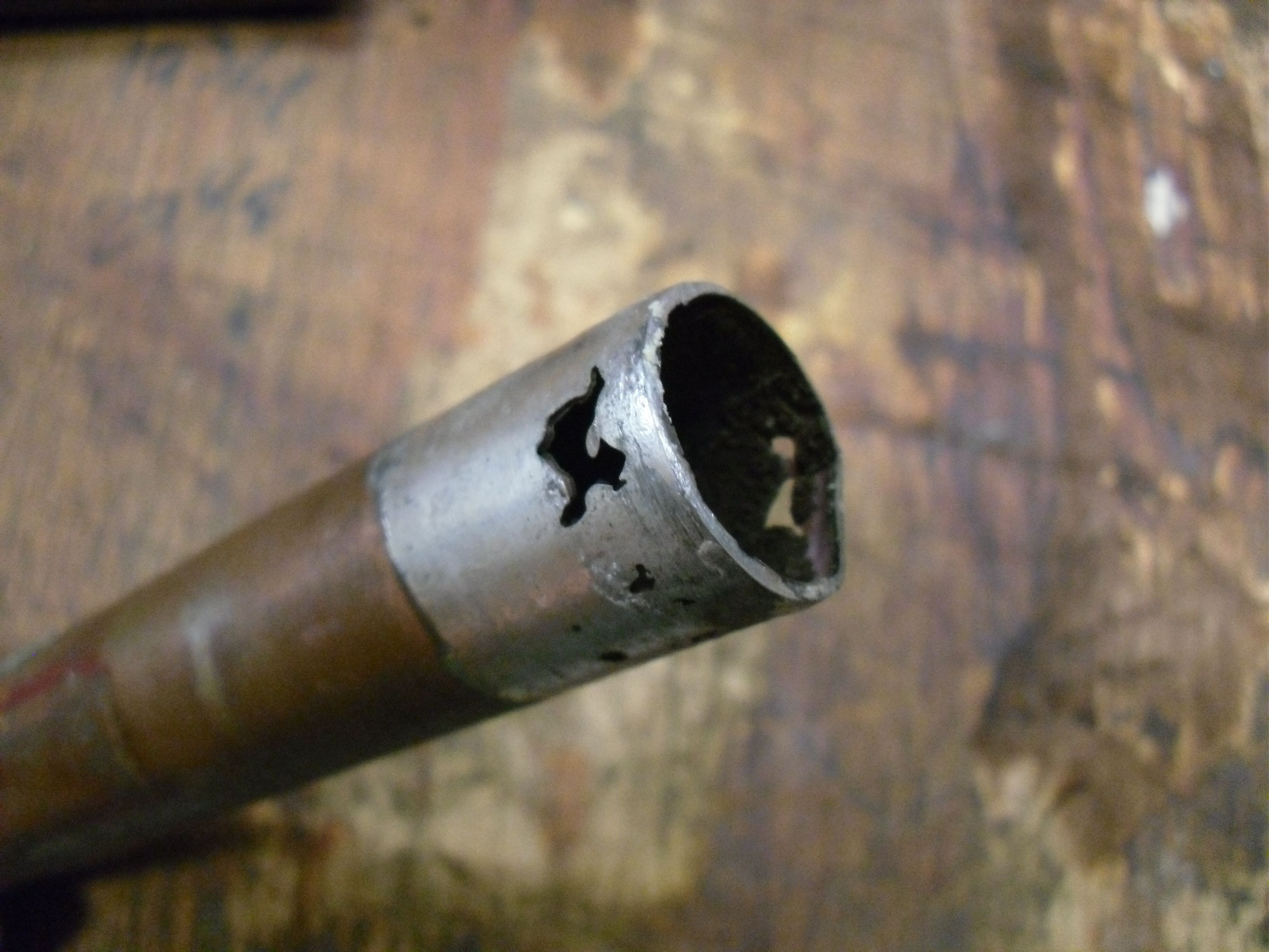hole: (543, 360, 638, 540), (755, 415, 815, 542)
